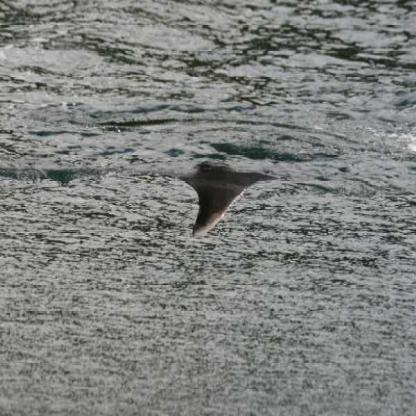dolphin-whale: (171, 156, 282, 248)
